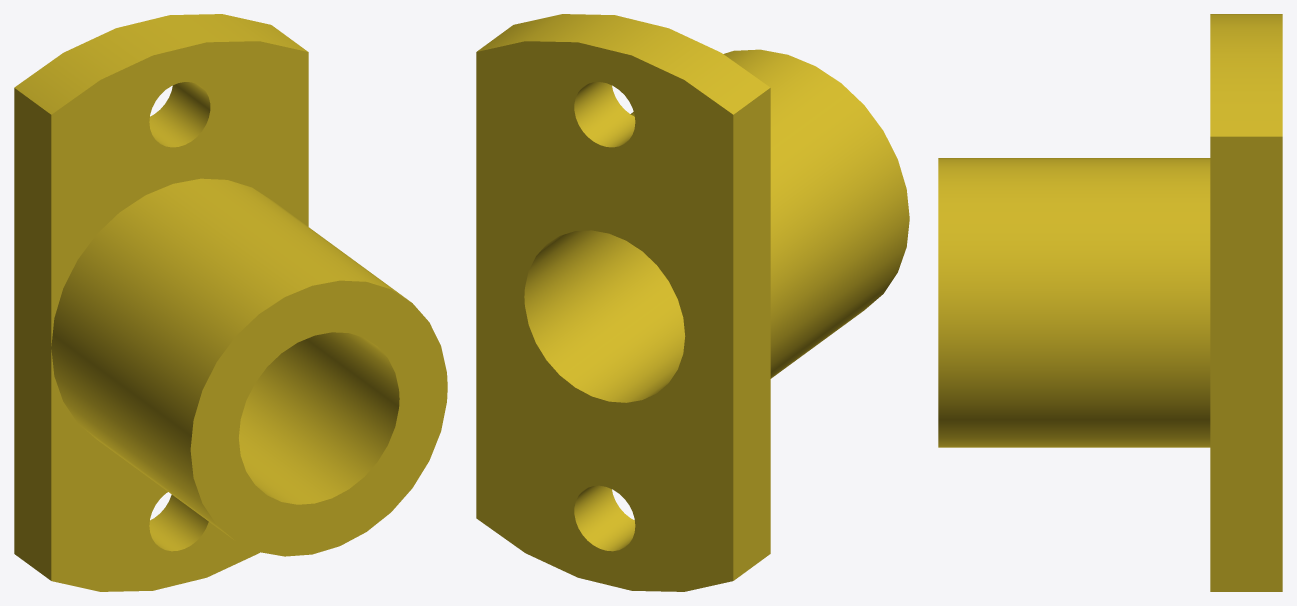
Rendered from A26_S13_LeadScrewNut.gltf.
The picture shows the model from 3 angles, left to right: view 1: azimuth 30°, elevation 25°; view 2: azimuth 150°, elevation 25°; view 3: azimuth 270°, elevation 25°; orthographic projection. The views are drawn at different scales.
Visible parts, largest first — view 1: mesh37228, mesh37229, mesh37227, mesh37226, mesh37236, mesh37233, mesh37230, mesh37231, mesh37237; view 2: mesh37235, mesh37228, mesh37226, mesh37233, mesh37230, mesh37231, mesh37237; view 3: mesh37228, mesh37232, mesh37230.
Part boxes in pixels (x1,y1,x2,y2): mesh37228: [51, 178, 410, 539]; mesh37229: [51, 41, 308, 345]; mesh37227: [190, 280, 447, 556]; mesh37226: [239, 332, 399, 504]; mesh37236: [51, 350, 259, 591]; mesh37233: [14, 88, 51, 580]; mesh37230: [14, 14, 307, 114]; mesh37231: [149, 82, 210, 147]; mesh37237: [149, 494, 208, 551]; mesh37235: [476, 41, 733, 591]; mesh37228: [630, 49, 909, 378]; mesh37226: [524, 230, 685, 402]; mesh37233: [733, 88, 770, 580]; mesh37230: [477, 14, 770, 114]; mesh37231: [574, 82, 635, 147]; mesh37237: [574, 485, 635, 551]; mesh37228: [938, 158, 1210, 447]; mesh37232: [1210, 136, 1282, 591]; mesh37230: [1210, 14, 1282, 136].
Size of the model in its own units: 0.016 by 0.0318 by 0.019.
